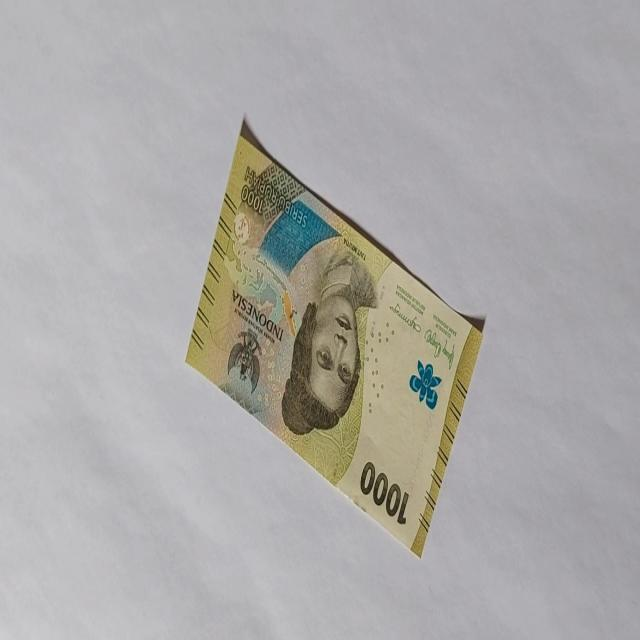seribu rupiah kertas: (184, 116, 485, 560)
